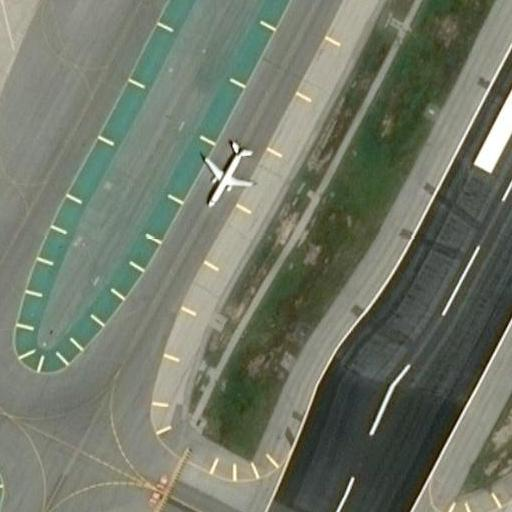Aircraft: (192, 135, 258, 201)
